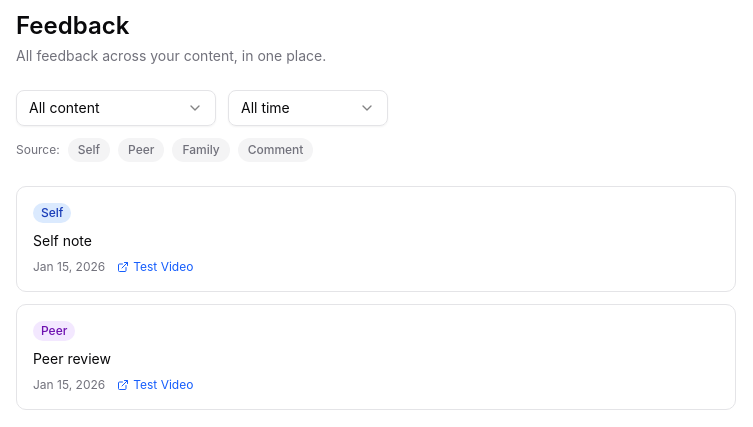
Test: GlobalFeedbackPage › filtering › filters by feedback source
This screenshot has width=753, height=427.
Note: Click "Self" source filter button
Click the button with test id "source-filter-self" at (89,150), box [68,138,110,162]
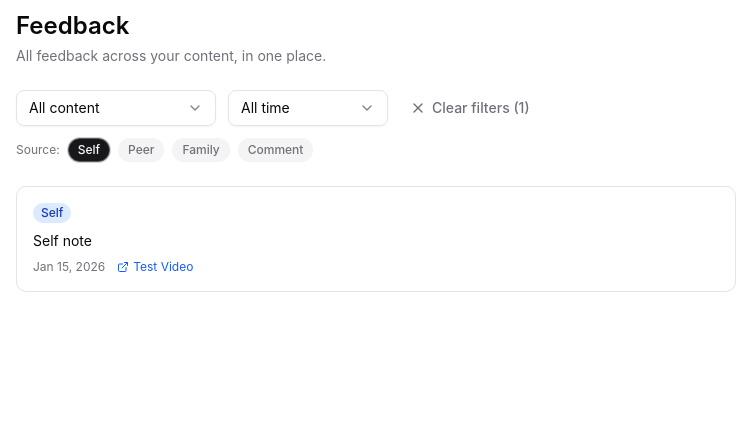
expect the text "Self note" is shown: met, box [33,232,92,249]
expect the text "Peer review" is gone: met
